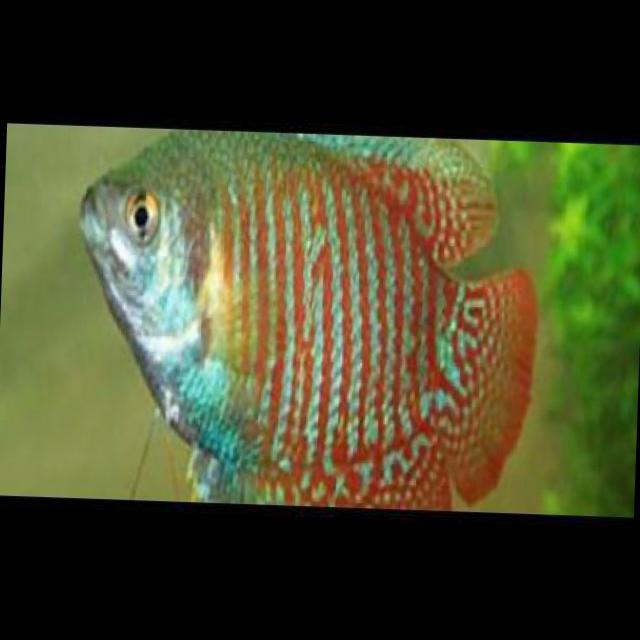Gourami: (68, 124, 544, 512)
